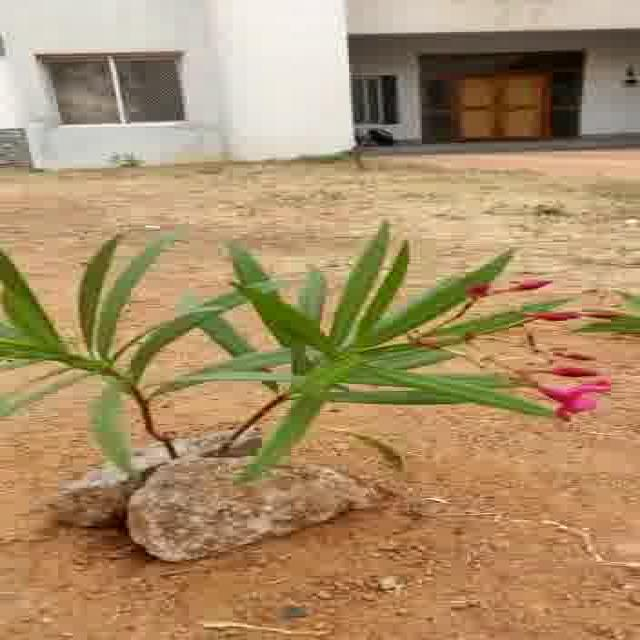Oleander: (0, 232, 629, 444)
